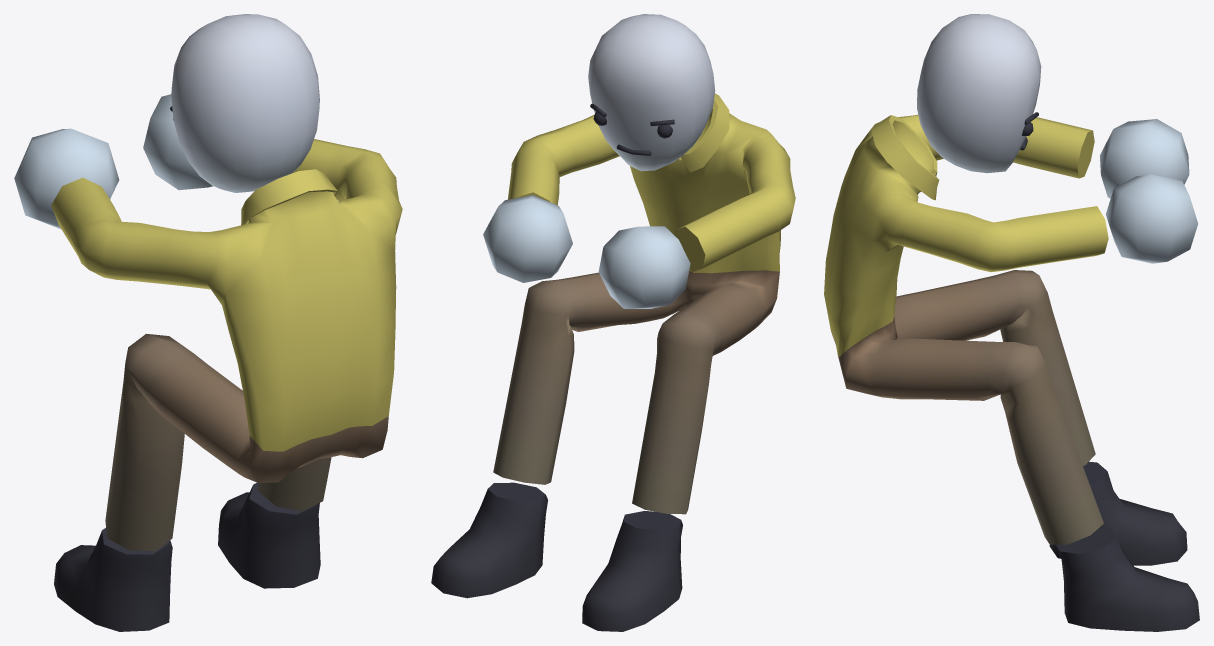
File: npc2.fbx
3 views of the same model, side by side, from view 1: azimuth 30°, elevation 25°; view 2: azimuth 150°, elevation 25°; view 3: azimuth 270°, elevation 25° (orthographic). The views are drawn at different scales.
Visible parts, largest first — view 1: npc2; view 2: npc2; view 3: npc2.
Part boxes in pixels (<box>): npc2: <box>14,14,402,631</box>; npc2: <box>431,14,795,631</box>; npc2: <box>824,14,1199,631</box>.
Size of the model in its own units: 66.67 by 126 by 77.46.
